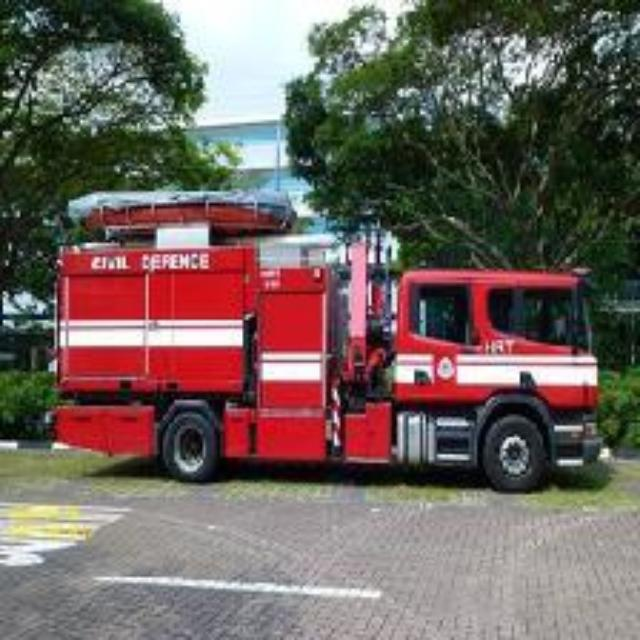emergency: (60, 200, 618, 492)
